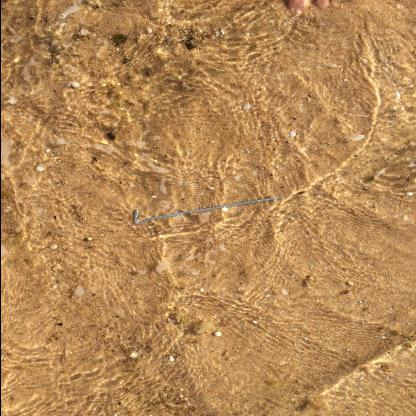metal: (132, 196, 284, 226)
